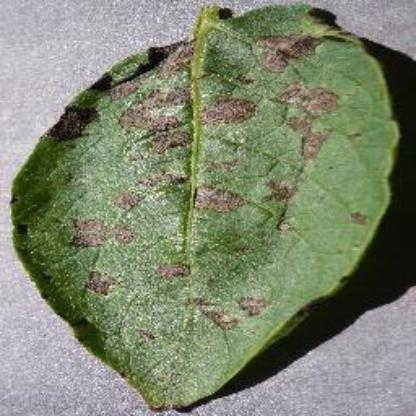Early-Blight: (10, 6, 402, 410)
